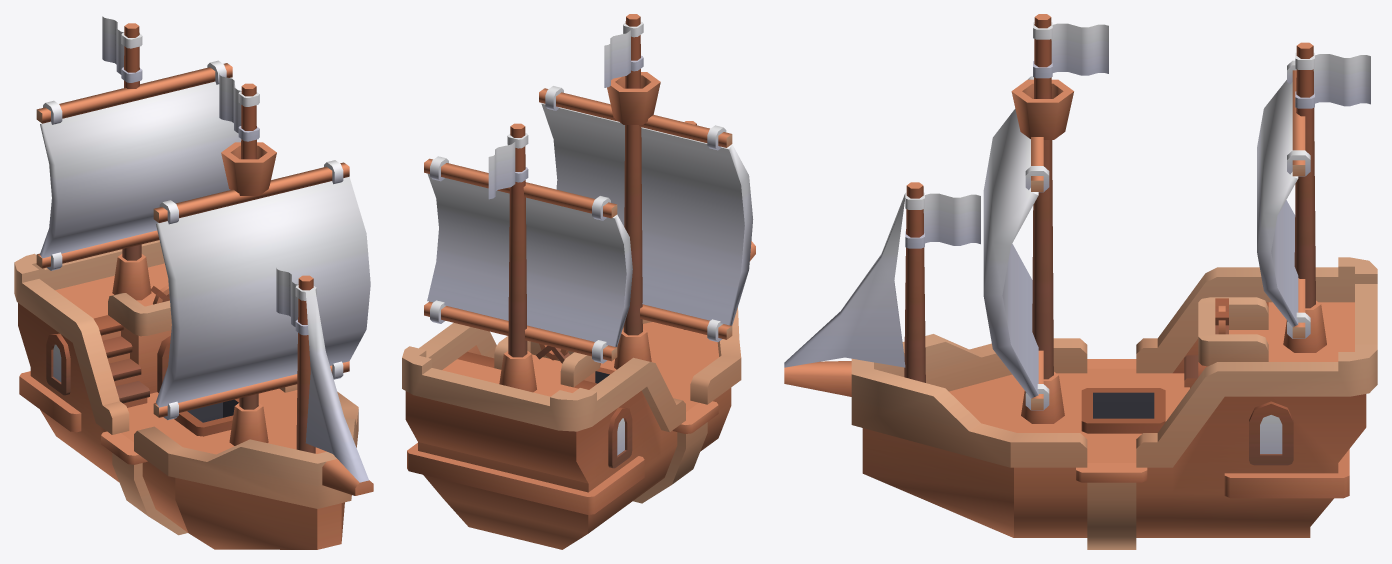
File: kenney-pirate-kit-ship-medium.glb
3 renders of one model, left to right at view 1: azimuth 30°, elevation 25°; view 2: azimuth 150°, elevation 25°; view 3: azimuth 270°, elevation 25°, orthographic. The views are drawn at different scales.
Parts seen in each view (by area): view 1: ship-medium, sail-a, sail-b, flag-b, flag-c, flag-a; view 2: ship-medium, sail-a, sail-b, flag-c, flag-b; view 3: ship-medium, sail-a, sail-b, flag-b, flag-a, flag-c.
Boxes of the visible parts, <box> form: ship-medium: <box>14,23,373,549</box>; sail-a: <box>153,160,370,419</box>; sail-b: <box>36,60,241,270</box>; flag-b: <box>219,73,259,141</box>; flag-c: <box>102,16,142,82</box>; flag-a: <box>276,268,316,335</box>; ship-medium: <box>402,14,755,549</box>; sail-a: <box>539,86,753,341</box>; sail-b: <box>424,156,632,363</box>; flag-c: <box>488,133,528,199</box>; flag-b: <box>604,21,643,87</box>; ship-medium: <box>784,14,1377,549</box>; sail-a: <box>983,76,1049,410</box>; sail-b: <box>1257,60,1310,338</box>; flag-b: <box>1033,22,1108,78</box>; flag-a: <box>905,192,980,248</box>; flag-c: <box>1295,52,1370,108</box>.
Bounding box in the file's own units: 3.17 × 6.58 × 7.
1 material, 1 textured.
